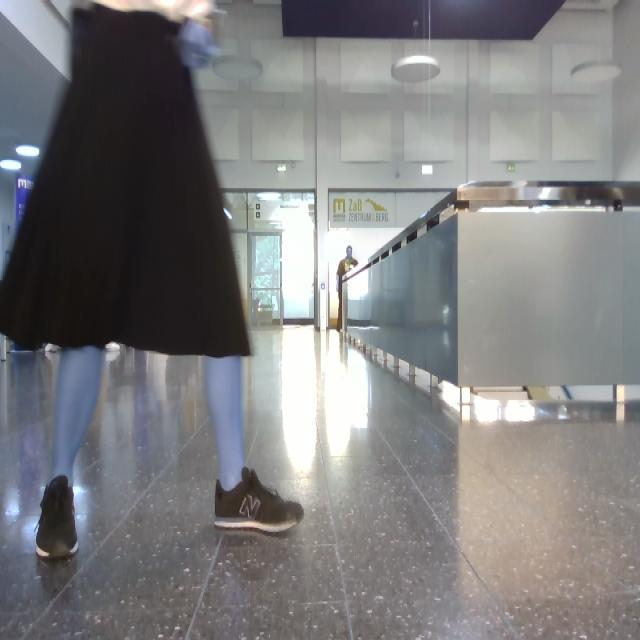light bulb: (392, 56, 441, 83), (392, 56, 441, 82), (214, 56, 264, 80), (572, 61, 622, 84), (17, 146, 41, 158), (1, 159, 22, 171)
person: (1, 6, 304, 557), (337, 246, 359, 332)
staircase: (344, 185, 640, 389)
tiled floor: (1, 328, 640, 639)
